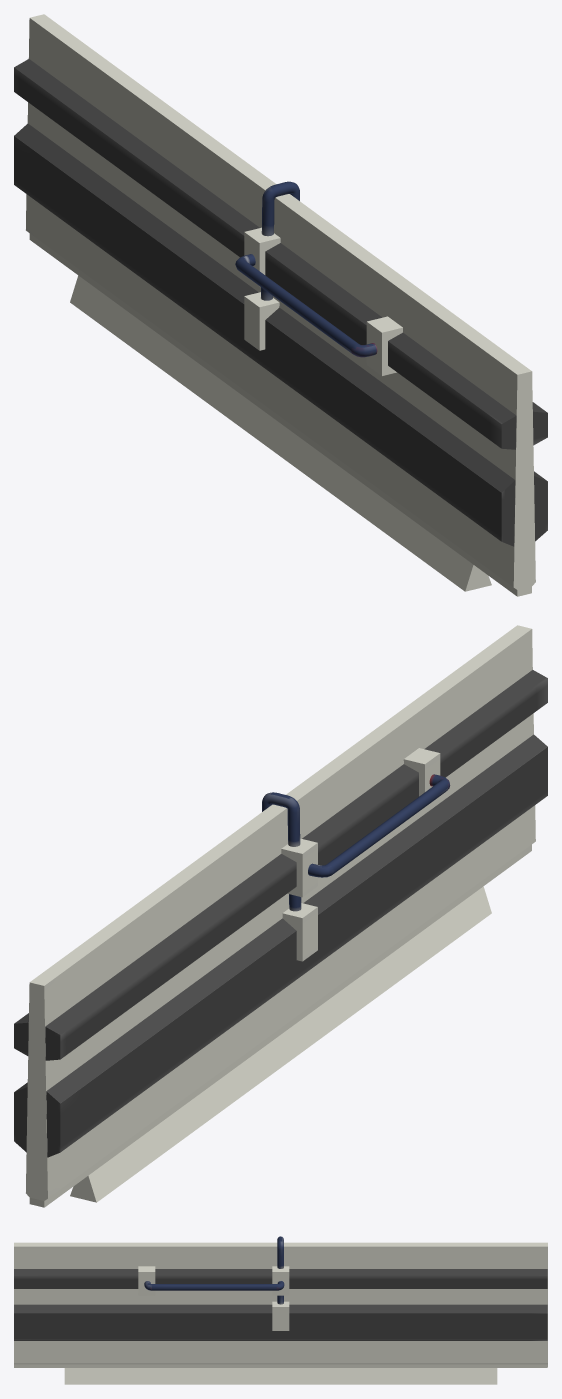
The model's file is Valla6.fbx.
3 renders of one model, top to bottom at view 1: azimuth 30°, elevation 25°; view 2: azimuth 150°, elevation 25°; view 3: azimuth 270°, elevation 25°, orthographic. The views are drawn at different scales.
Parts seen in each view (by area): view 1: Cube; view 2: Cube; view 3: Cube.
Part boxes in pixels (bbox=[...]): Cube: bbox=[14, 14, 547, 596]; Cube: bbox=[14, 625, 547, 1207]; Cube: bbox=[14, 1236, 547, 1384].
Size of the model in its own units: 90.86 by 234 by 797.
Materials: 1 (1 with a texture image).
